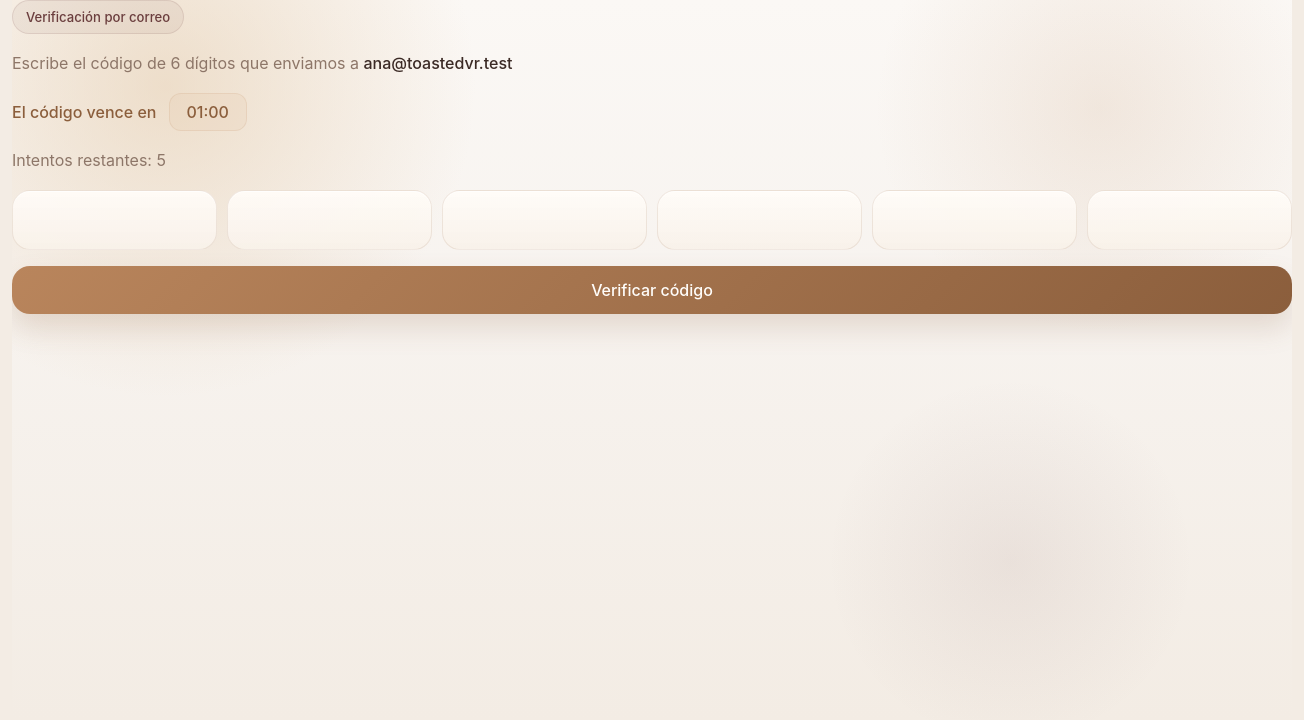
Scenario: VerificationForm › enables the resend button right away when the attempts are exhausted
Type "1" into the field named "Dígito 1 del código".
click(114, 220); type("1")  # box left=12, top=190, right=217, bottom=250
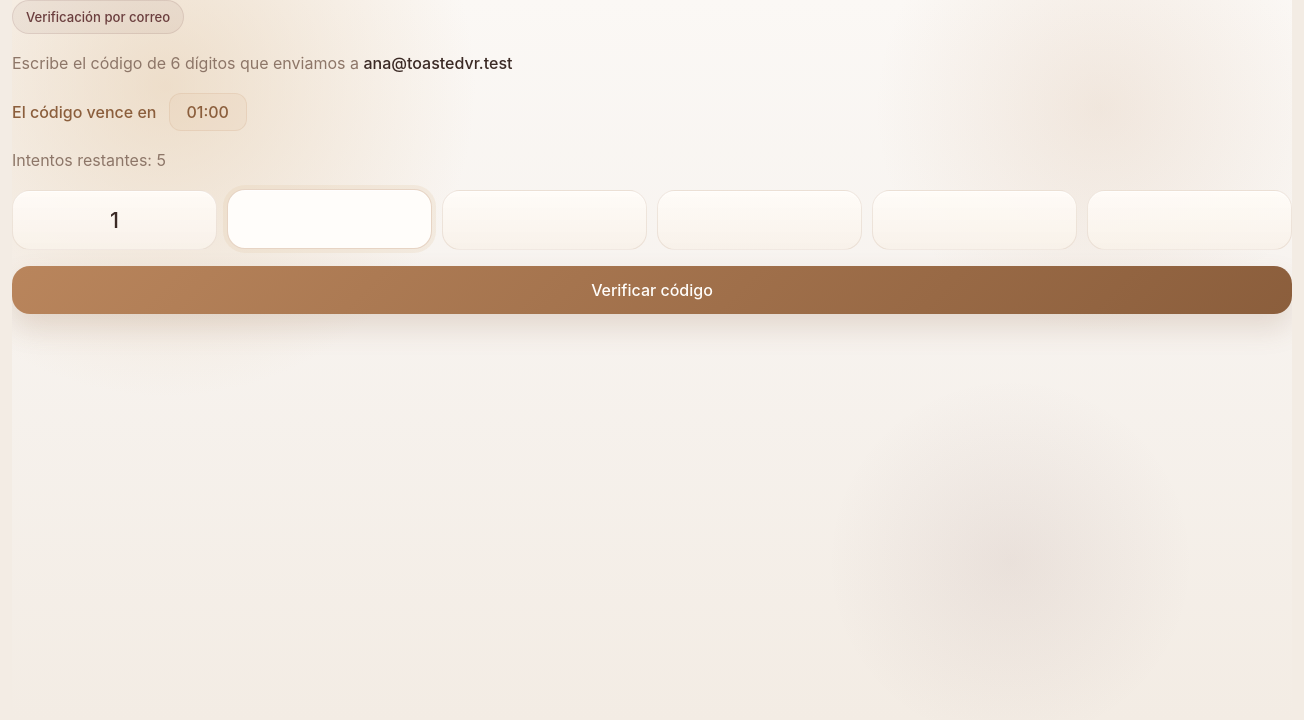
Type "2" into the field named "Dígito 2 del código".
click(330, 219); type("2")  # box left=227, top=189, right=432, bottom=249
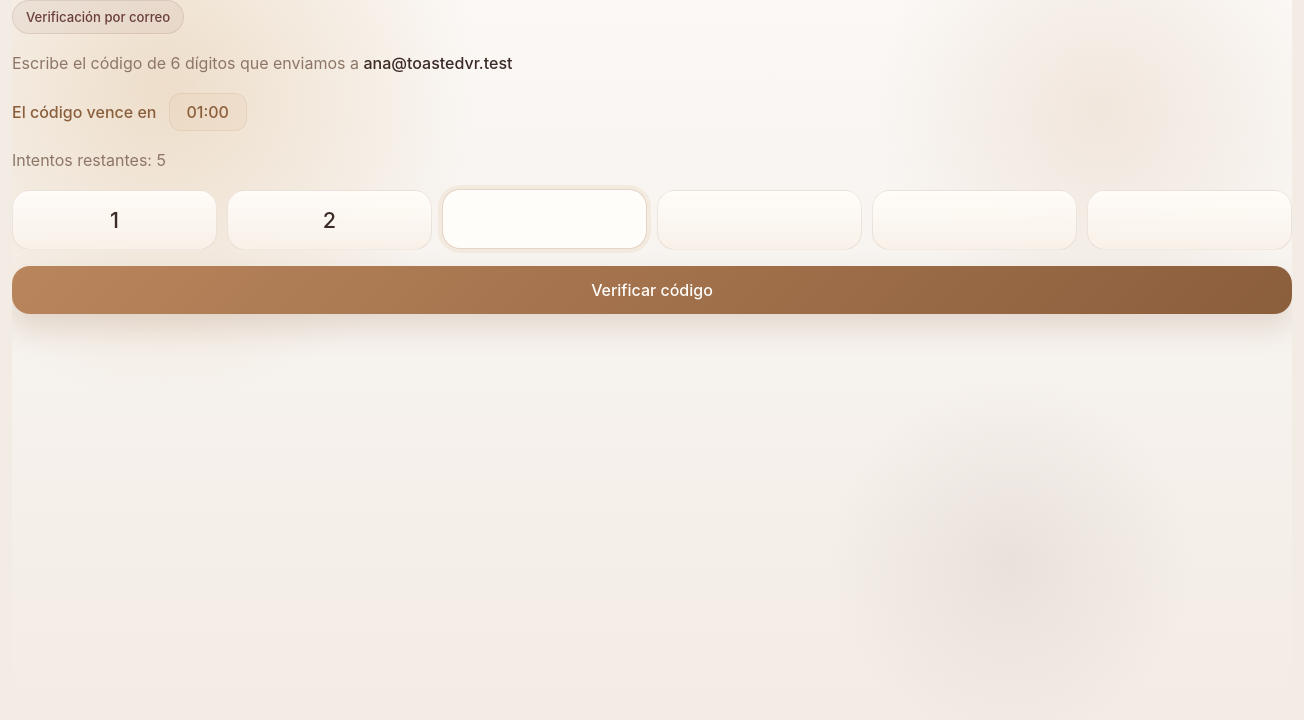
Type "3" into the field named "Dígito 3 del código".
click(544, 219); type("3")  # box left=442, top=189, right=647, bottom=249
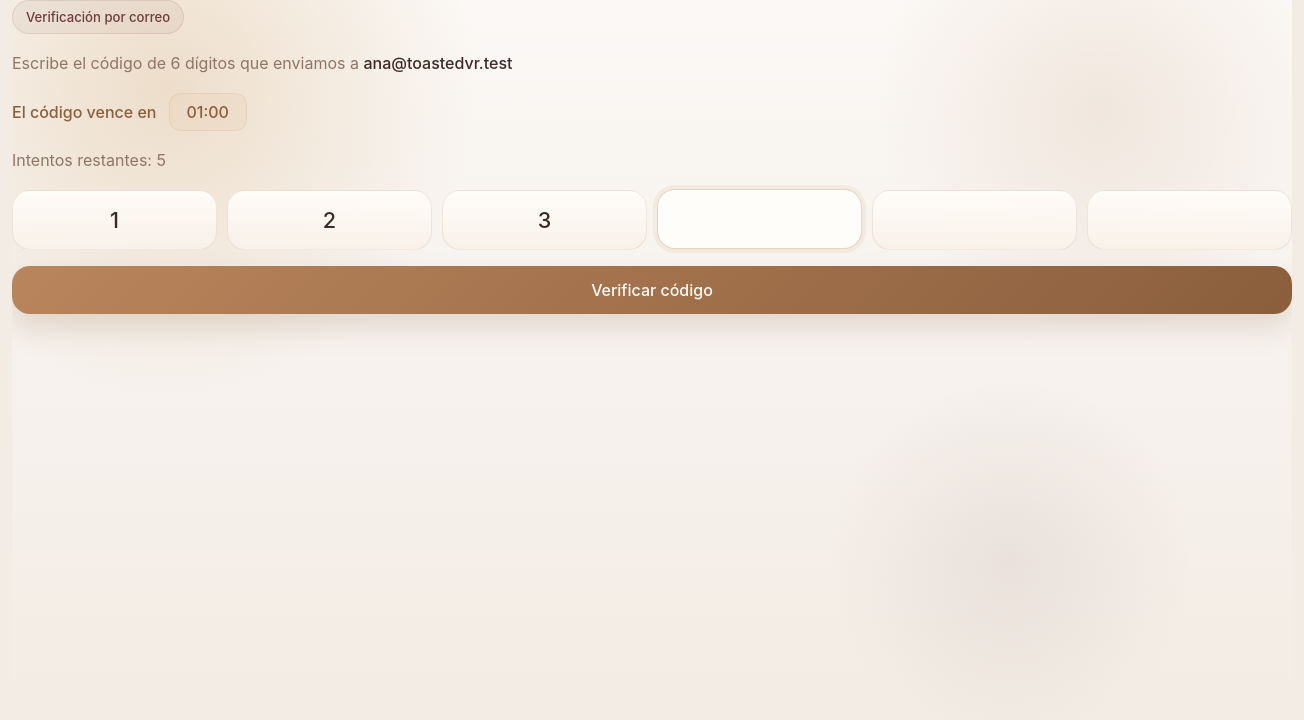
Type "4" into the field named "Dígito 4 del código".
click(760, 219); type("4")  # box left=657, top=189, right=862, bottom=249
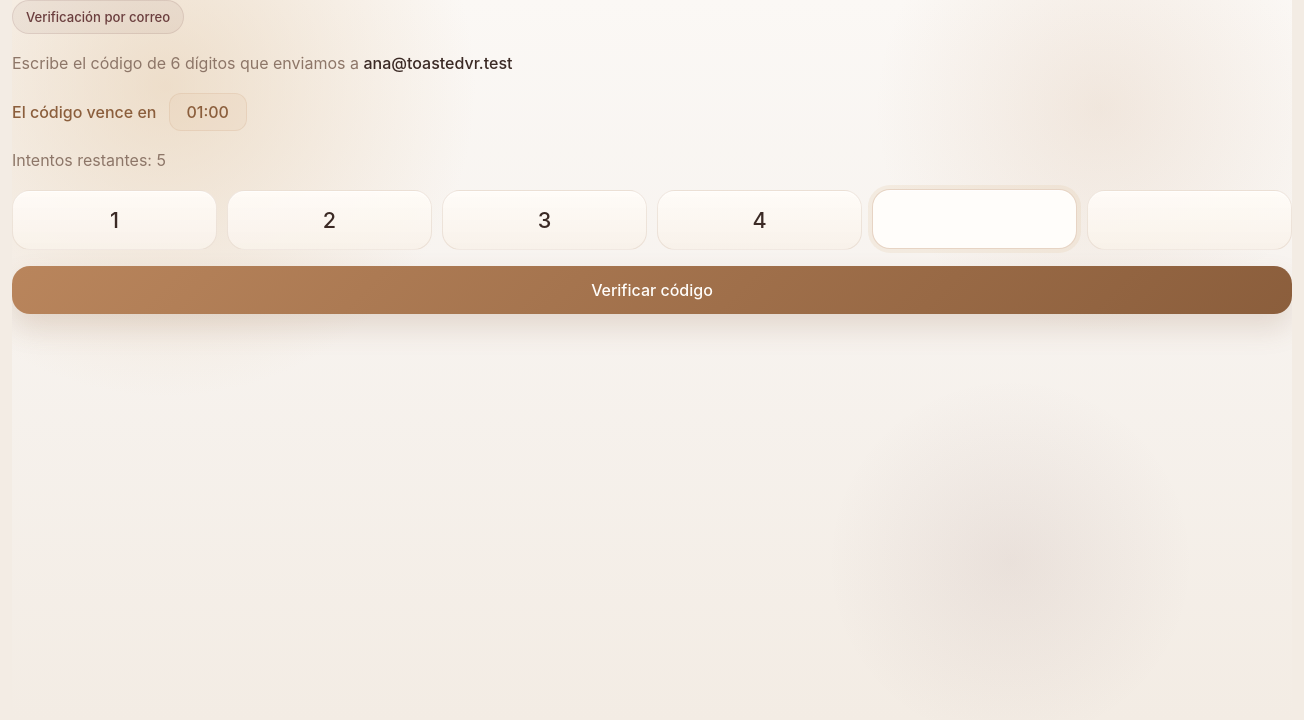
Type "5" into the field named "Dígito 5 del código".
click(974, 219); type("5")  # box left=872, top=189, right=1077, bottom=249
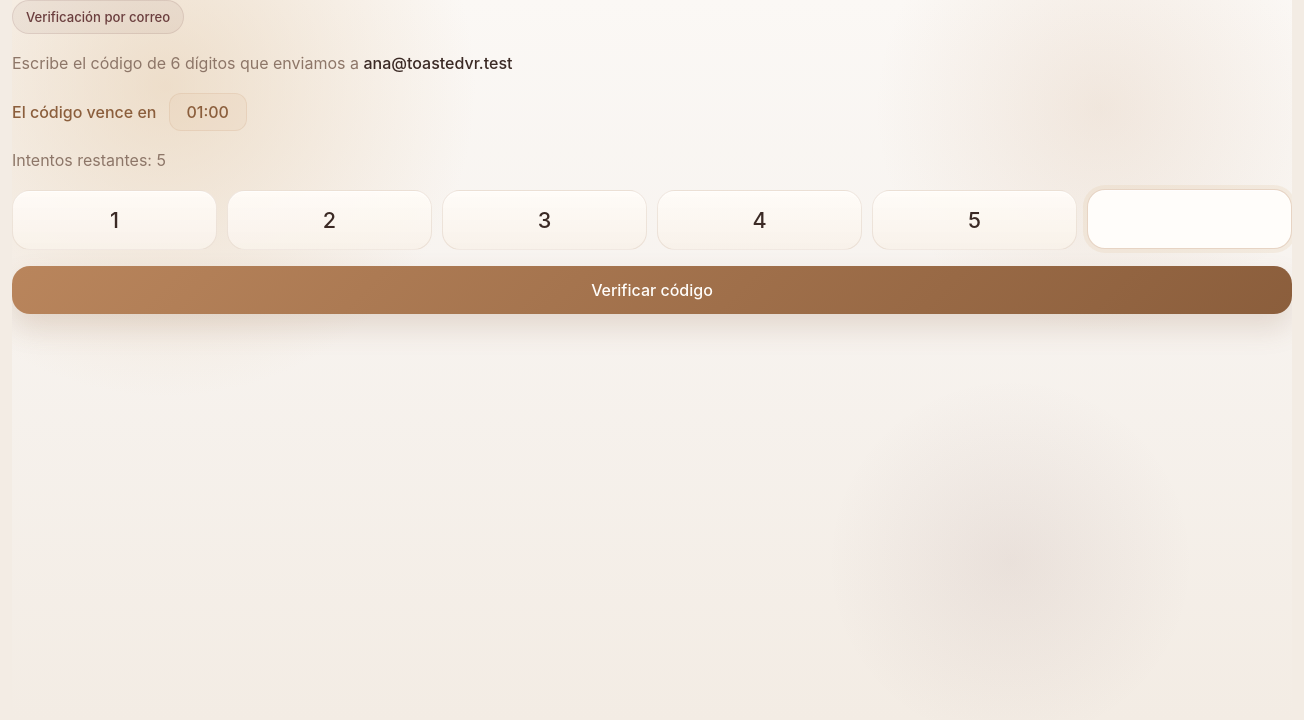
Type "6" into the field named "Dígito 6 del código".
click(1190, 219); type("6")  # box left=1087, top=189, right=1292, bottom=249
Click the button "Verificar código".
click(652, 290)  # box left=12, top=266, right=1292, bottom=314
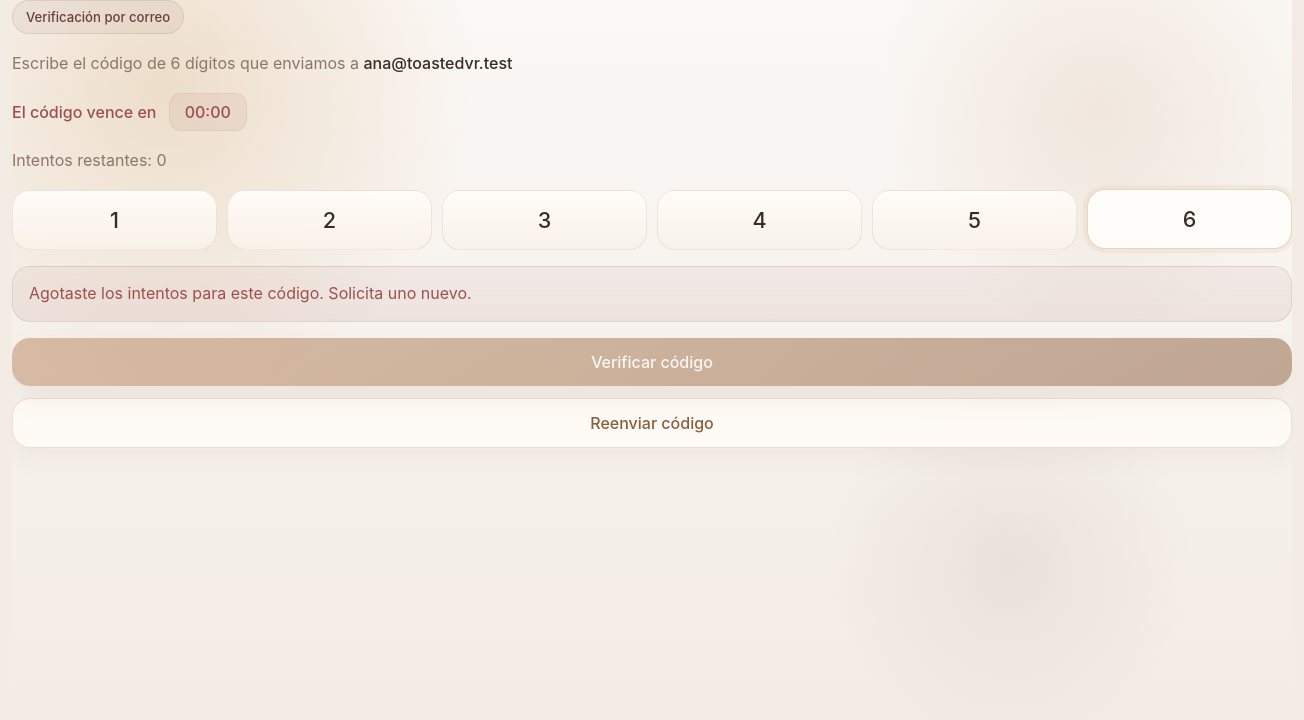
Expected: the text "Agotaste los intentos para este código. Solicita uno nuevo." is shown, left=12, top=266, right=1292, bottom=322
Expected: the button "Reenviar código" is enabled, left=12, top=398, right=1292, bottom=448
Expected: the button "Verificar código" is disabled, left=12, top=338, right=1292, bottom=386
